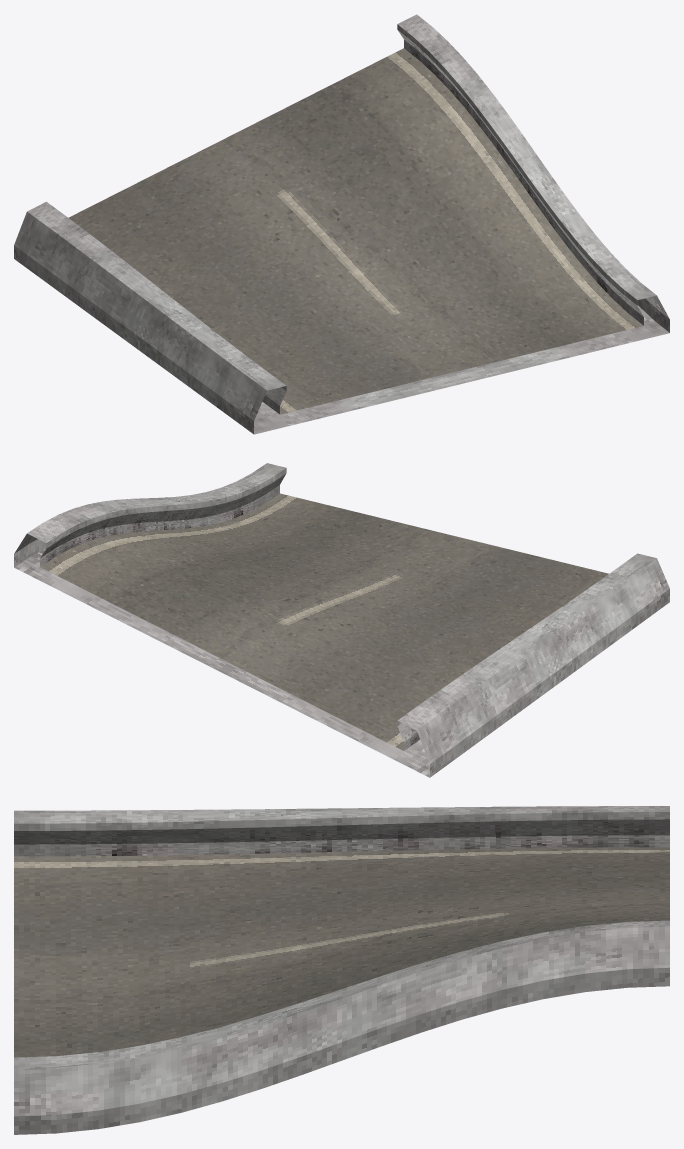
File: road-Straight-Flat-HalfBankedLeft-Even-Center-Size1.glb
The picture shows the model from 3 angles, top to bottom: view 1: azimuth 30°, elevation 25°; view 2: azimuth 150°, elevation 25°; view 3: azimuth 270°, elevation 25°; orthographic projection. The views are drawn at different scales.
Visible parts, largest first — view 1: road-Straight-Flat-HalfBankedLeft-Even-Center-Size1; view 2: road-Straight-Flat-HalfBankedLeft-Even-Center-Size1; view 3: road-Straight-Flat-HalfBankedLeft-Even-Center-Size1.
Boxes of the visible parts, x1,y1,x2,y2 form: road-Straight-Flat-HalfBankedLeft-Even-Center-Size1: [14, 14, 669, 434]; road-Straight-Flat-HalfBankedLeft-Even-Center-Size1: [14, 463, 669, 777]; road-Straight-Flat-HalfBankedLeft-Even-Center-Size1: [14, 806, 669, 1134].
Size of the model in its own units: 1 by 0.3359 by 1.
Materials: 2 (2 with a texture image).
